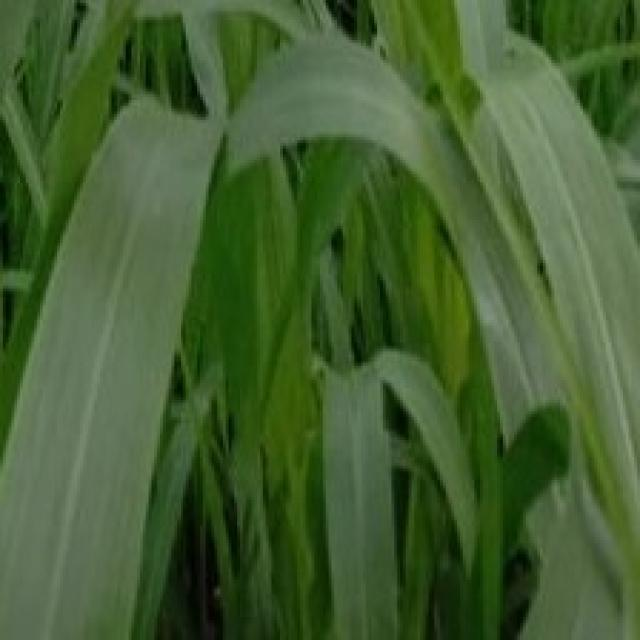Corn: (0, 0, 637, 637), (0, 89, 226, 637)
